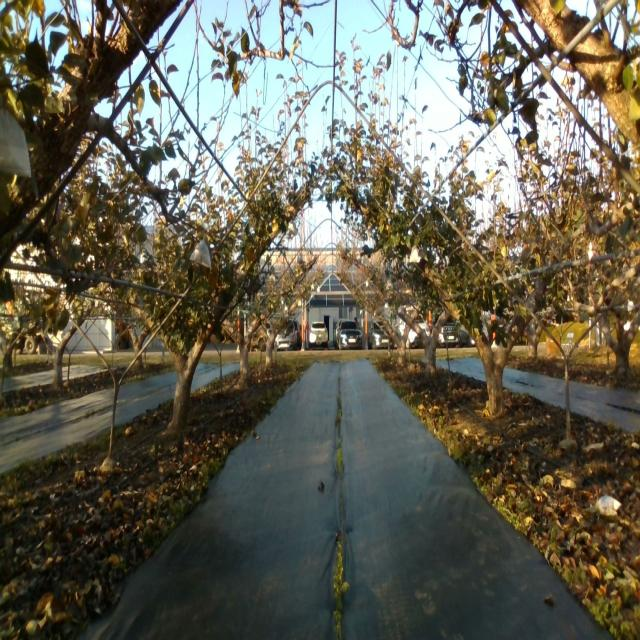pearbags: (0, 108, 31, 179), (190, 238, 211, 268), (409, 245, 421, 263)
